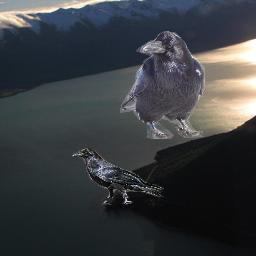Crow: (120, 30, 205, 139), (72, 148, 167, 206)
